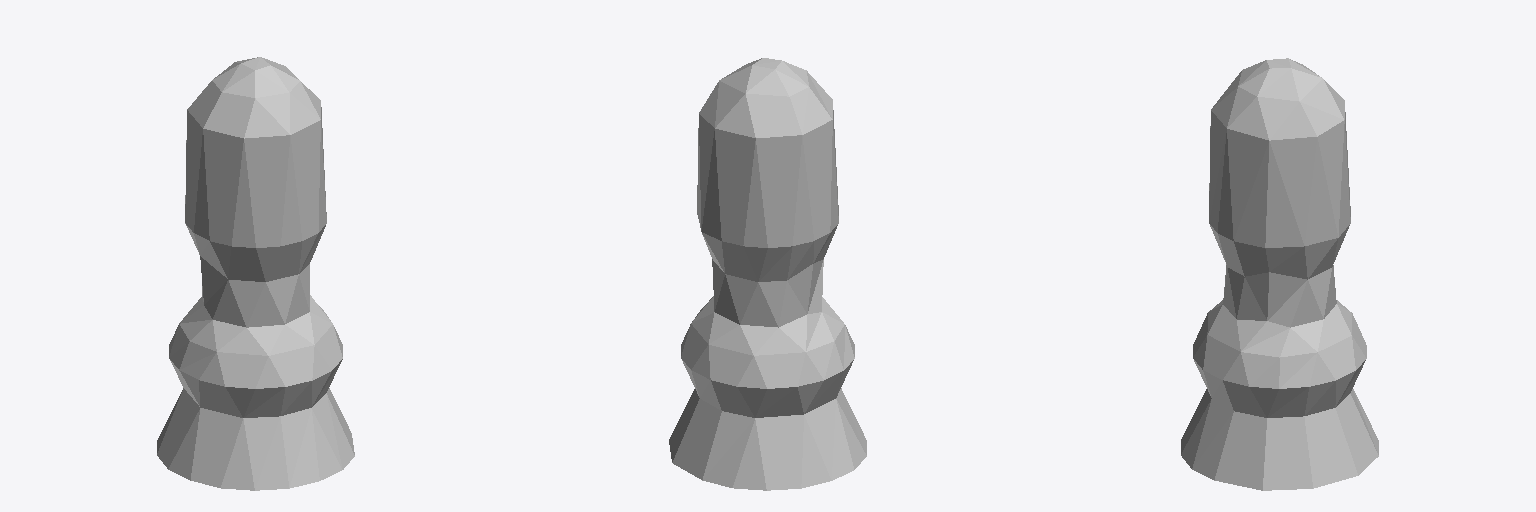
The model's file is light_10.obj.
The picture shows the model from 3 angles: view 1: azimuth 30°, elevation 25°; view 2: azimuth 150°, elevation 25°; view 3: azimuth 270°, elevation 25°; orthographic projection.
Parts seen in each view (by area): view 1: Cylinder001.009_Untitled.002; view 2: Cylinder001.009_Untitled.002; view 3: Cylinder001.009_Untitled.002.
Boxes of the visible parts, x1=… form: Cylinder001.009_Untitled.002: x1=157, y1=57, x2=354, y2=490; Cylinder001.009_Untitled.002: x1=669, y1=58, x2=866, y2=490; Cylinder001.009_Untitled.002: x1=1181, y1=58, x2=1378, y2=490.
Size of the model in its own units: 0.2348 by 0.4952 by 0.2317.